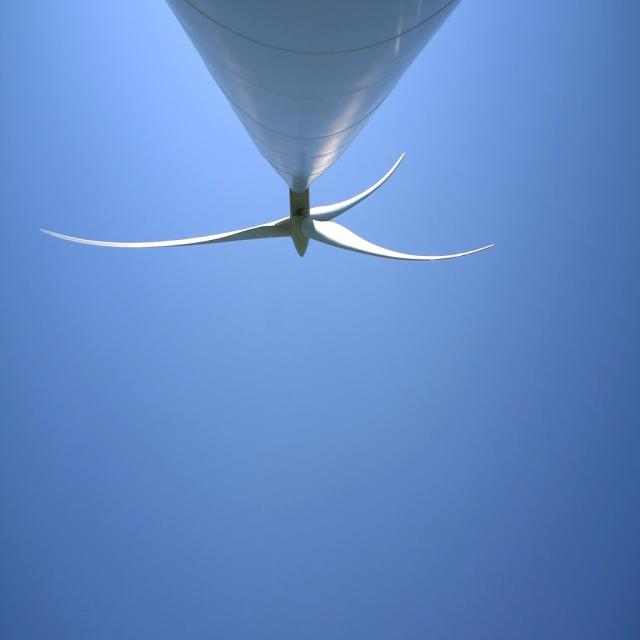blade 1: (331, 228, 517, 280)
blade 2: (354, 146, 414, 204)
blade 3: (28, 213, 278, 286)
